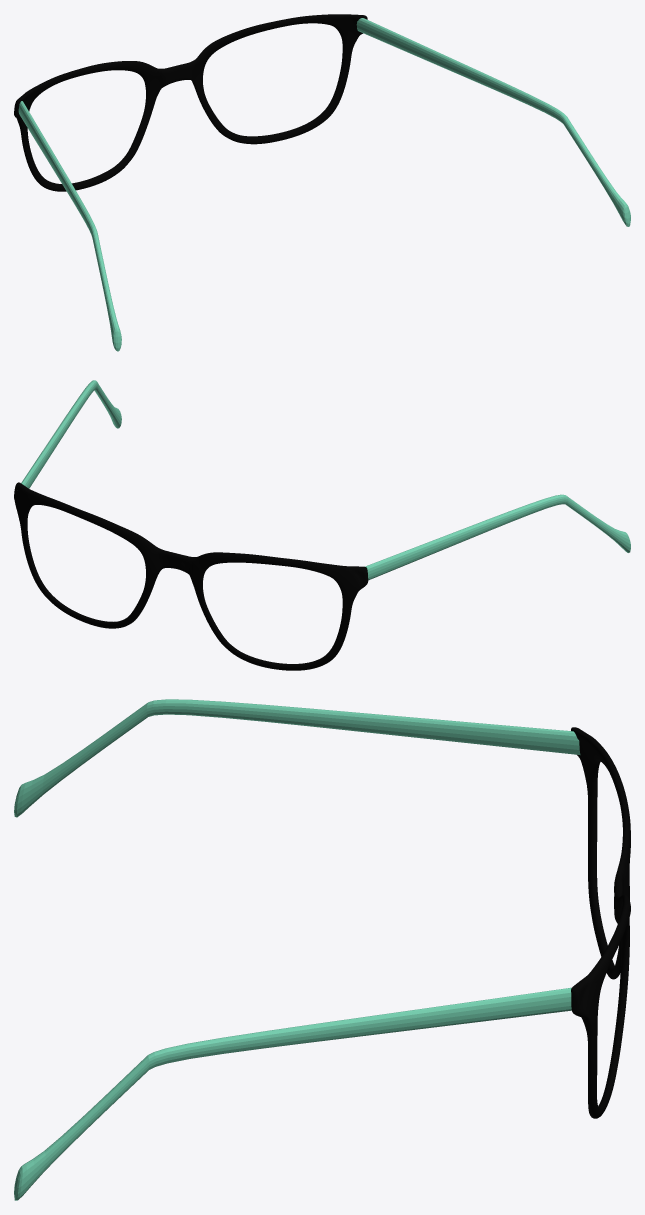
File: wayfarer.fbx
3 views of the same model, one above another, from view 1: azimuth 30°, elevation 25°; view 2: azimuth 150°, elevation 25°; view 3: azimuth 270°, elevation 25° (orthographic). The views are drawn at different scales.
Visible parts, largest first — view 1: frame.001, frame.000; view 2: frame.001, frame.000; view 3: frame.000, frame.001.
Part boxes in pixels (bbox=[...]): frame.001: bbox=[14, 14, 367, 191]; frame.000: bbox=[18, 18, 630, 351]; frame.001: bbox=[14, 482, 368, 670]; frame.000: bbox=[21, 380, 630, 580]; frame.000: bbox=[14, 699, 580, 1200]; frame.001: bbox=[571, 727, 630, 1118].
Bounding box in the file's own units: 19.16 × 4.13 × 12.86.
